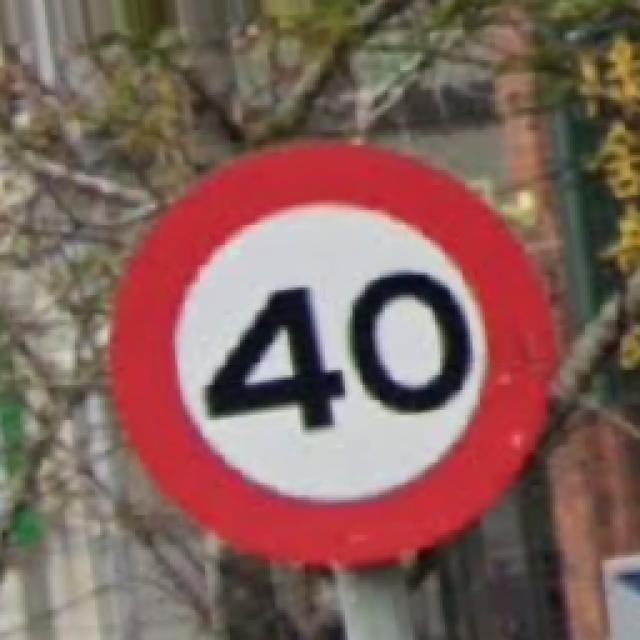Speed Limit -40-: (112, 142, 555, 569)
